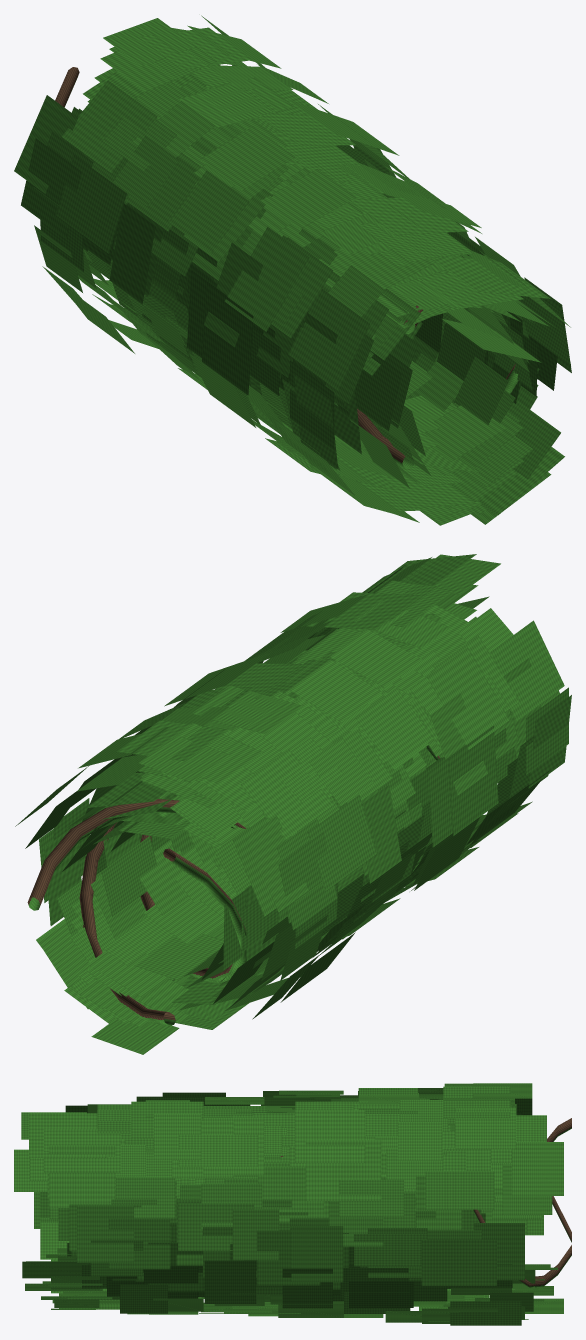
The model's file is veg_vine_ivy_01.glb.
3 renders of one model, top to bottom at view 1: azimuth 30°, elevation 25°; view 2: azimuth 150°, elevation 25°; view 3: azimuth 270°, elevation 25°, orthographic. The views are drawn at different scales.
Parts seen in each view (by area): view 1: veg_vine_ivy_01; view 2: veg_vine_ivy_01; view 3: veg_vine_ivy_01.
Boxes of the visible parts, left/top/right/bottom form: veg_vine_ivy_01: left=14, top=15, right=571, bottom=525; veg_vine_ivy_01: left=15, top=554, right=571, bottom=1054; veg_vine_ivy_01: left=14, top=1083, right=571, bottom=1325.
Size of the model in its own units: 0.7677 by 0.7716 by 1.8.
Materials: 1 (1 with a texture image).
